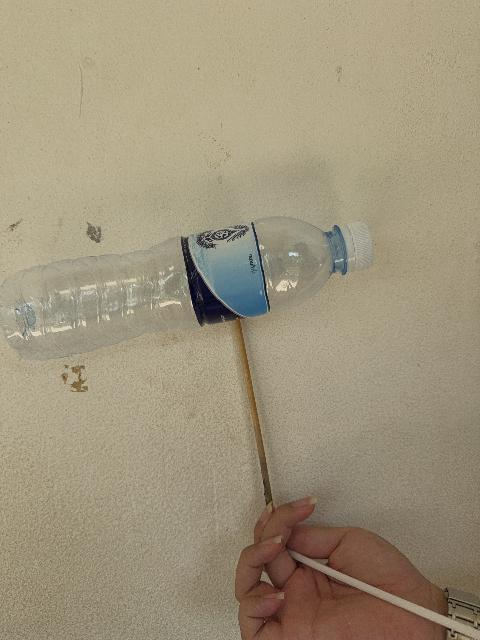bottle: (0, 217, 372, 359)
